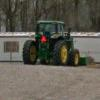Tractor: (20, 13, 92, 75)
